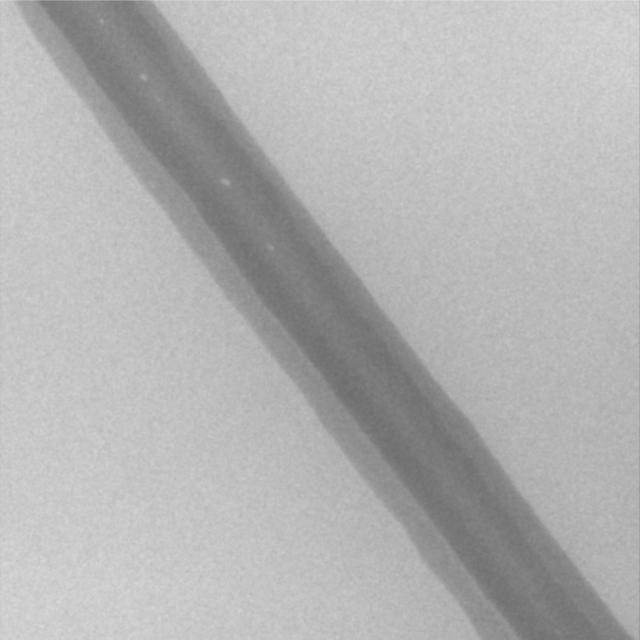air hole: (220, 176, 231, 188), (139, 71, 149, 82), (98, 17, 105, 25)
